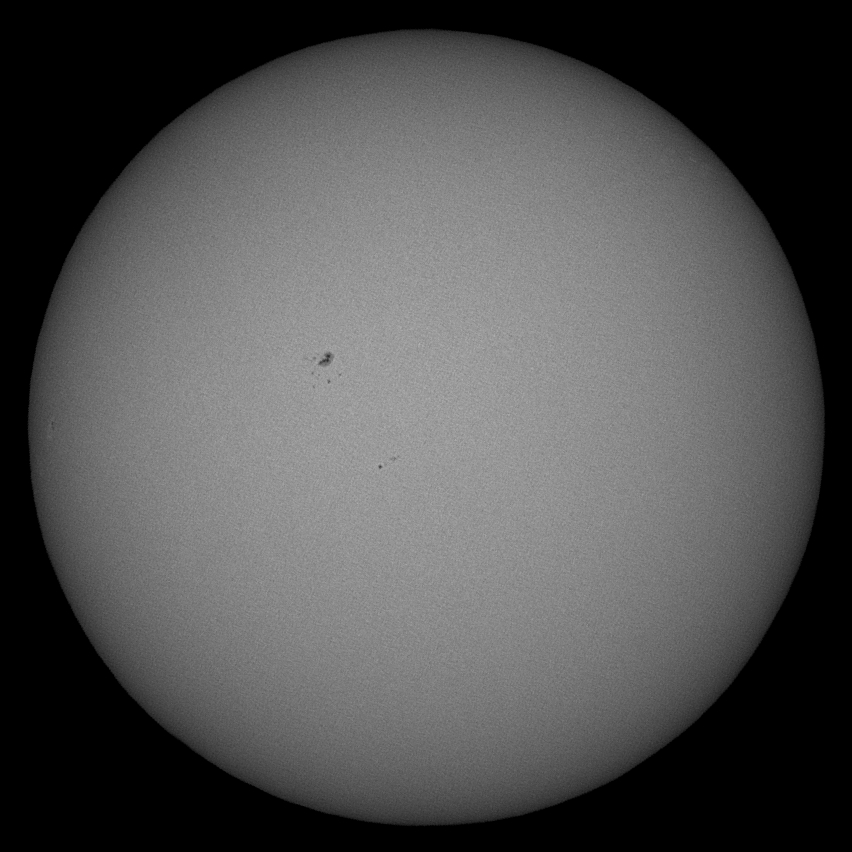sunspot: (309, 346, 338, 383), (375, 453, 402, 471)
